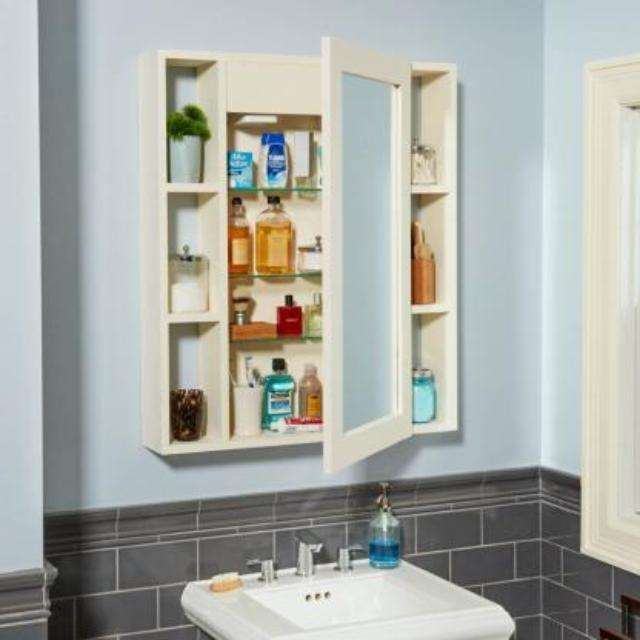Rak: (161, 53, 323, 452)
